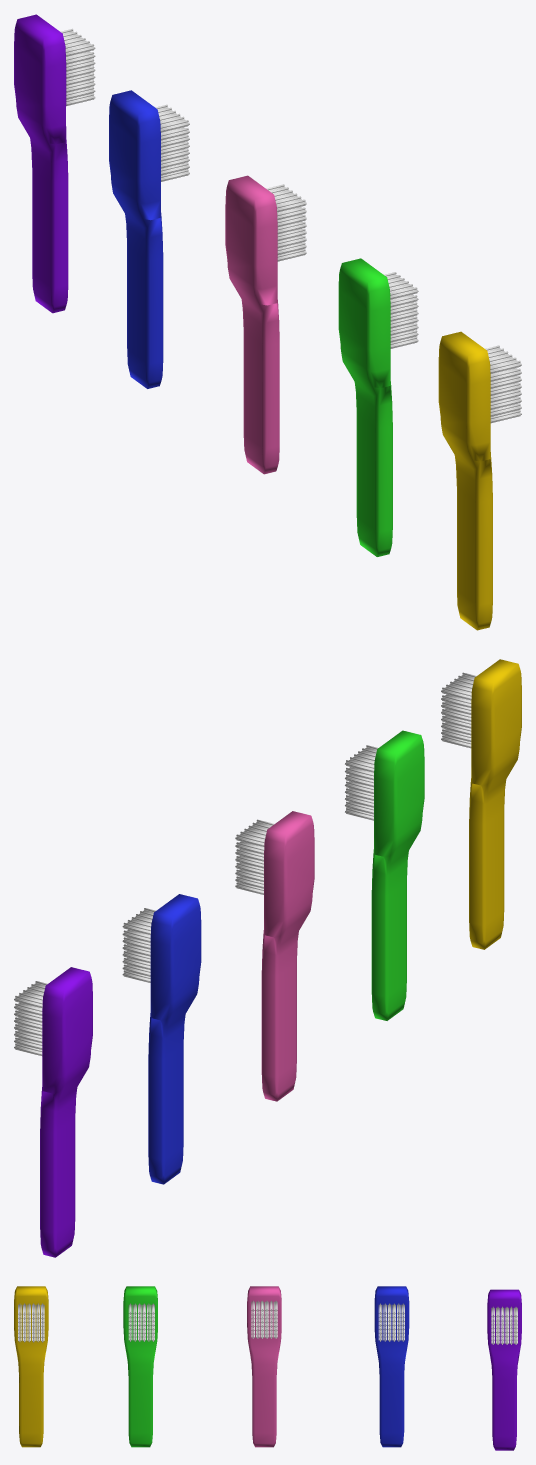
The model's file is Toothbrush.fbx.
3 renders of one model, top to bottom at view 1: azimuth 30°, elevation 25°; view 2: azimuth 150°, elevation 25°; view 3: azimuth 270°, elevation 25°, orthographic. The views are drawn at different scales.
Parts seen in each view (by area): view 1: ToothbrushPink, ToothbrushYellow, ToothbrushPurple, ToothbrushBlue, ToothbrushGreen; view 2: ToothbrushYellow, ToothbrushPink, ToothbrushGreen, ToothbrushBlue, ToothbrushPurple; view 3: ToothbrushBlue, ToothbrushPink, ToothbrushPurple, ToothbrushYellow, ToothbrushGreen.
Boxes of the visible parts, x1,y1,x2,y2 form: ToothbrushPink: [225, 175, 306, 474]; ToothbrushYellow: [438, 331, 521, 630]; ToothbrushPurple: [14, 14, 95, 313]; ToothbrushBlue: [109, 90, 189, 388]; ToothbrushGreen: [338, 258, 418, 556]; ToothbrushYellow: [441, 659, 521, 949]; ToothbrushPink: [235, 811, 314, 1101]; ToothbrushGreen: [345, 730, 424, 1020]; ToothbrushBlue: [122, 894, 201, 1184]; ToothbrushPurple: [14, 967, 92, 1257]; ToothbrushBlue: [374, 1286, 409, 1447]; ToothbrushPink: [247, 1286, 281, 1447]; ToothbrushPurple: [487, 1289, 521, 1450]; ToothbrushYellow: [14, 1286, 48, 1447]; ToothbrushGreen: [123, 1286, 157, 1447].
Bounding box in the file's own units: 7.24 × 31.13 × 92.43.
